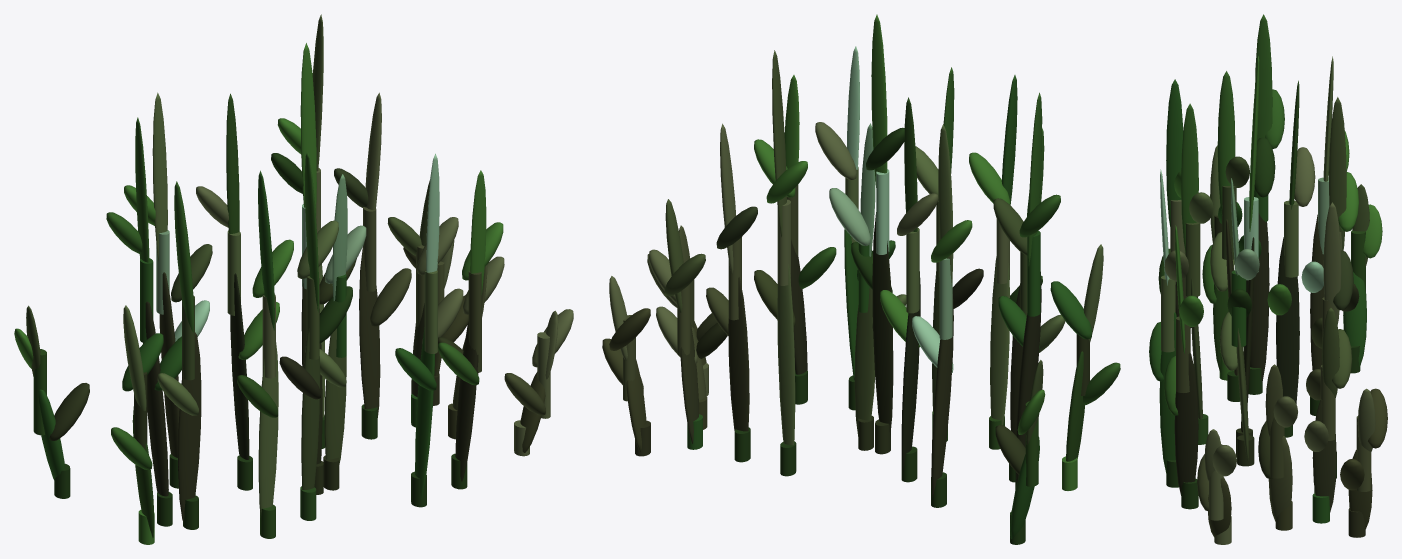
The model's file is CMU3DRMCBushi2.glb.
3 renders of one model, left to right at view 1: azimuth 30°, elevation 25°; view 2: azimuth 150°, elevation 25°; view 3: azimuth 270°, elevation 25°, orthographic. The views are drawn at different scales.
Visible parts, largest first — view 1: reed 3 lower blade, reed 12 lower blade, reed 2 lower blade, reed 5 lower blade, reed 6 lower blade, reed 7 lower blade, reed 9 lower blade, reed 8 tapered tip, reed 4 tapered tip, reed 11 lower blade, reed 13 lower blade, reed 3 tapered tip (+52 smaller); view 2: reed 8 lower blade, reed 10 lower blade, reed 12 lower blade, reed 5 lower blade, reed 4 lower blade, reed 9 lower blade, reed 6 lower blade, reed 8 tapered tip, reed 2 lower blade, reed 10 tapered tip, reed 4 tapered tip, reed 13 lower blade (+54 smaller); view 3: reed 6 lower blade, reed 13 lower blade, reed 2 lower blade, reed 10 tapered tip, reed 7 tapered tip, reed 5 tapered tip, reed 3 tapered tip, reed 2 tapered tip, reed 12 tapered tip, reed 14 lower blade, reed 11 lower blade, reed 14 tapered tip (+71 smaller).
Part boxes in pixels (x1,y1,x2,y2): reed 3 lower blade: (178, 332, 201, 521); reed 12 lower blade: (359, 246, 380, 417); reed 2 lower blade: (143, 301, 168, 496); reed 5 lower blade: (258, 342, 278, 517); reed 6 lower blade: (230, 273, 249, 459); reed 7 lower blade: (301, 328, 320, 489); reed 9 lower blade: (324, 328, 346, 464); reed 8 tapered tip: (300, 43, 316, 215); reed 4 tapered tip: (152, 92, 167, 261); reed 11 lower blade: (415, 327, 434, 498); reed 13 lower blade: (455, 321, 478, 481); reed 3 tapered tip: (174, 181, 194, 332); reed 8 lower blade: (872, 212, 893, 435); reed 10 lower blade: (777, 264, 795, 445); reed 12 lower blade: (728, 277, 749, 431); reed 5 lower blade: (990, 256, 1009, 425); reed 4 lower blade: (931, 294, 953, 497); reed 9 lower blade: (854, 287, 875, 436); reed 6 lower blade: (901, 271, 920, 471); reed 8 tapered tip: (871, 14, 887, 187); reed 2 lower blade: (1016, 272, 1041, 482); reed 10 tapered tip: (772, 50, 786, 236); reed 4 tapered tip: (938, 124, 953, 285); reed 13 lower blade: (791, 239, 807, 374); reed 6 lower blade: (1276, 237, 1299, 426); reed 13 lower blade: (1174, 352, 1198, 495); reed 2 lower blade: (1246, 213, 1269, 383); reed 10 tapered tip: (1329, 97, 1346, 250); reed 7 tapered tip: (1181, 103, 1198, 252); reed 5 tapered tip: (1166, 79, 1183, 228); reed 3 tapered tip: (1217, 71, 1235, 215); reed 2 tapered tip: (1255, 14, 1272, 140); reed 12 tapered tip: (1323, 202, 1341, 324); reed 14 lower blade: (1312, 399, 1336, 512); reed 11 lower blade: (1159, 312, 1176, 472); reed 14 tapered tip: (1322, 308, 1339, 398).
Size of the model in its own units: 0.8083 by 0.7205 by 0.3886.
